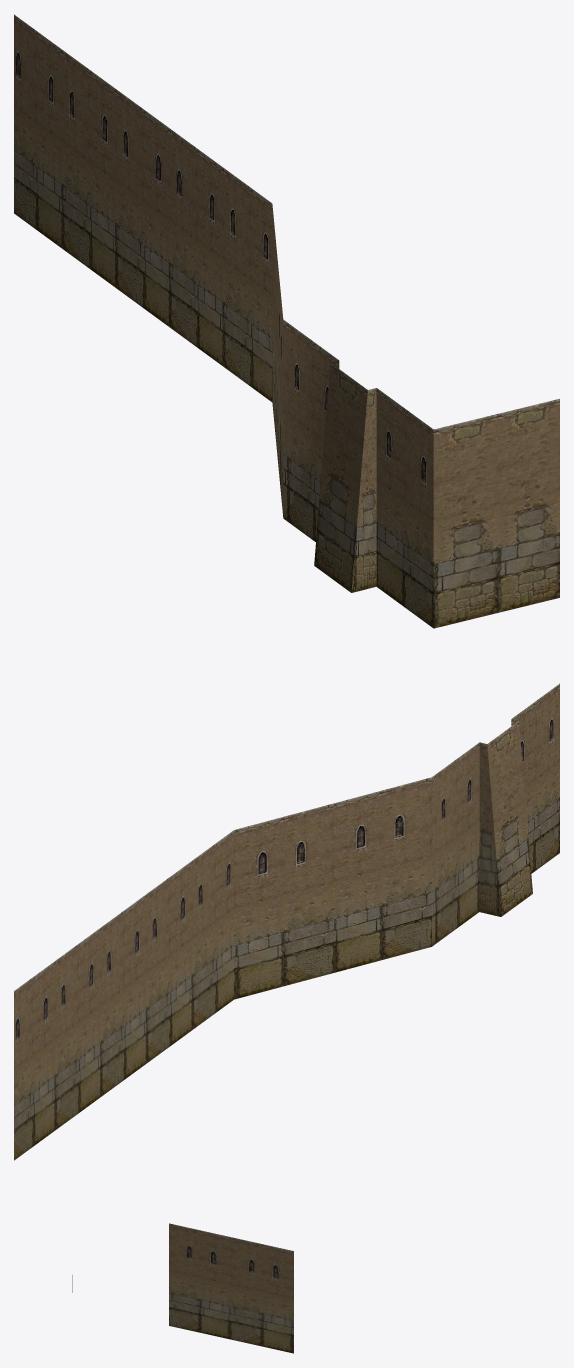
The model's file is M2Zone1_BackWall.glb.
3 renders of one model, top to bottom at view 1: azimuth 30°, elevation 25°; view 2: azimuth 150°, elevation 25°; view 3: azimuth 270°, elevation 25°, orthographic. The views are drawn at different scales.
Parts seen in each view (by area): view 1: M2ZONE1_BACKWALL; view 2: M2ZONE1_BACKWALL; view 3: M2ZONE1_BACKWALL.
Part boxes in pixels (x1,y1,x2,y2): M2ZONE1_BACKWALL: (14, 14, 559, 628); M2ZONE1_BACKWALL: (14, 683, 559, 1160); M2ZONE1_BACKWALL: (72, 1223, 293, 1353).
Bounding box in the file's own units: 16.61 × 12.05 × 58.19.
Materials: 2 (2 with a texture image).
